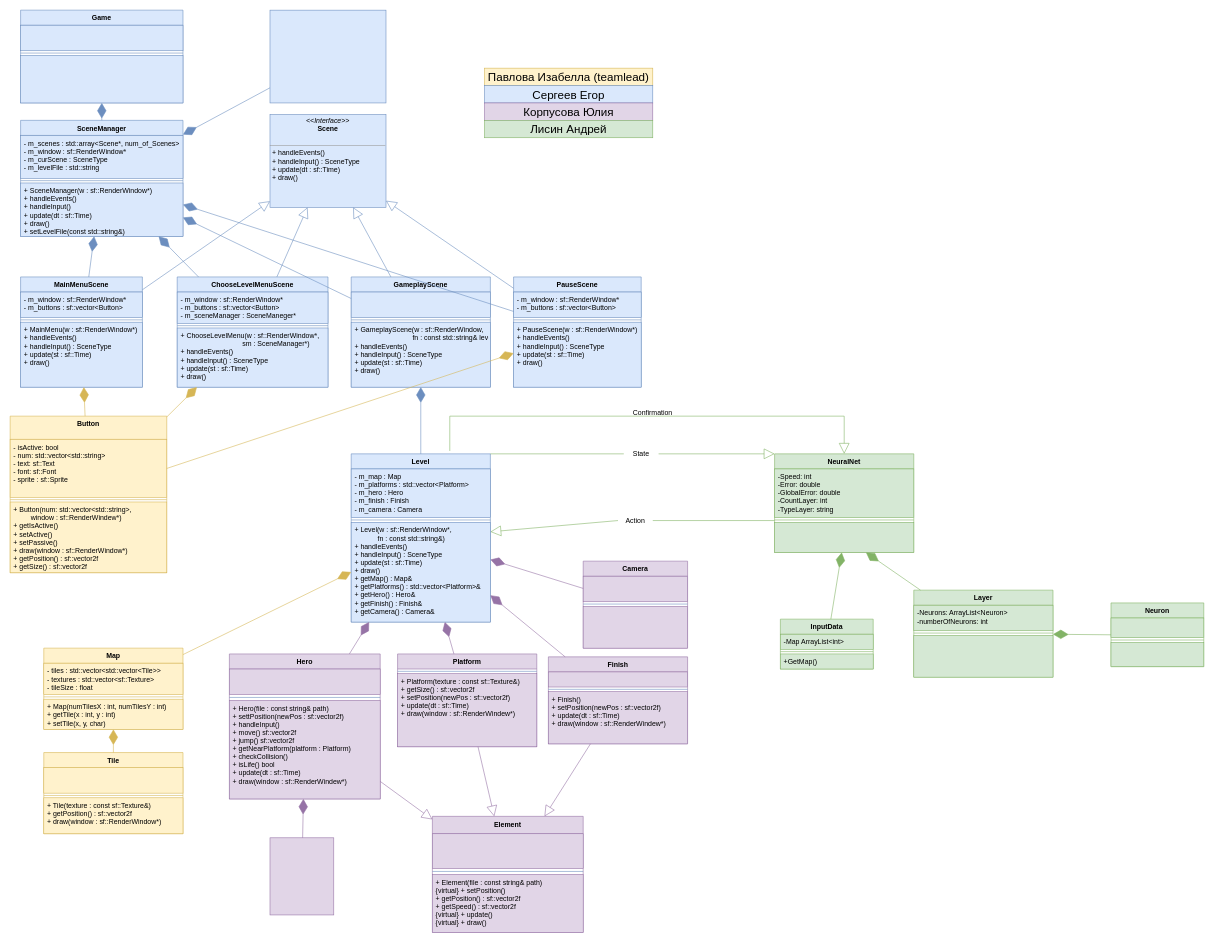
Some shapes in this 1214 by 944 pixel diagram are drawn without their labels. The shapes that lost their labels are listed below. From the top down, each one's centre as x and y in pixels, then its label:
At (101,38): "- m_sceneManager : SceneManager - m_window : sf::RenderWindow".
At (327,56): "<<Enumeration>> SceneType MainMenu ChooseLevelMenu Gameplay Pause".
At (101,79): "+ Game() + run()".
At (420,304): "- m_window : sf::RenderWindow* - m_level : Level".
At (844,537): "+CorrectionNet() +CalculateNet() +CalculateError()".
At (635,589): "- m_view : sf::View - m_center : sf::vector2f".
At (635,627): "+ Camera() + handleEvent + getHeroPosition(hero : Hero) + uprate(dt: sf::Time)".
At (1157,627): "-Weight: int -Derivate: int".
At (983,656): "+SetListOfNeurons() +GetListOfNeurons() +CorrectionLayer() +CalculateLayer()".
At (1157,654): "+Calculate() +Correction()".
At (304,681): "- m_direction : bool - m_state : State".
At (618,679): "- m_isReach : bool".
At (113,780): "- sprite : sf::Sprite - isEmpty : bool".
At (507,851): "- m_sprite : sf::Sprite - m_speed : sf::vector2f - m_level : Level*".
At (301,876): "<<Enumeration>> State Stay Run Jump Fall Die Finished".
